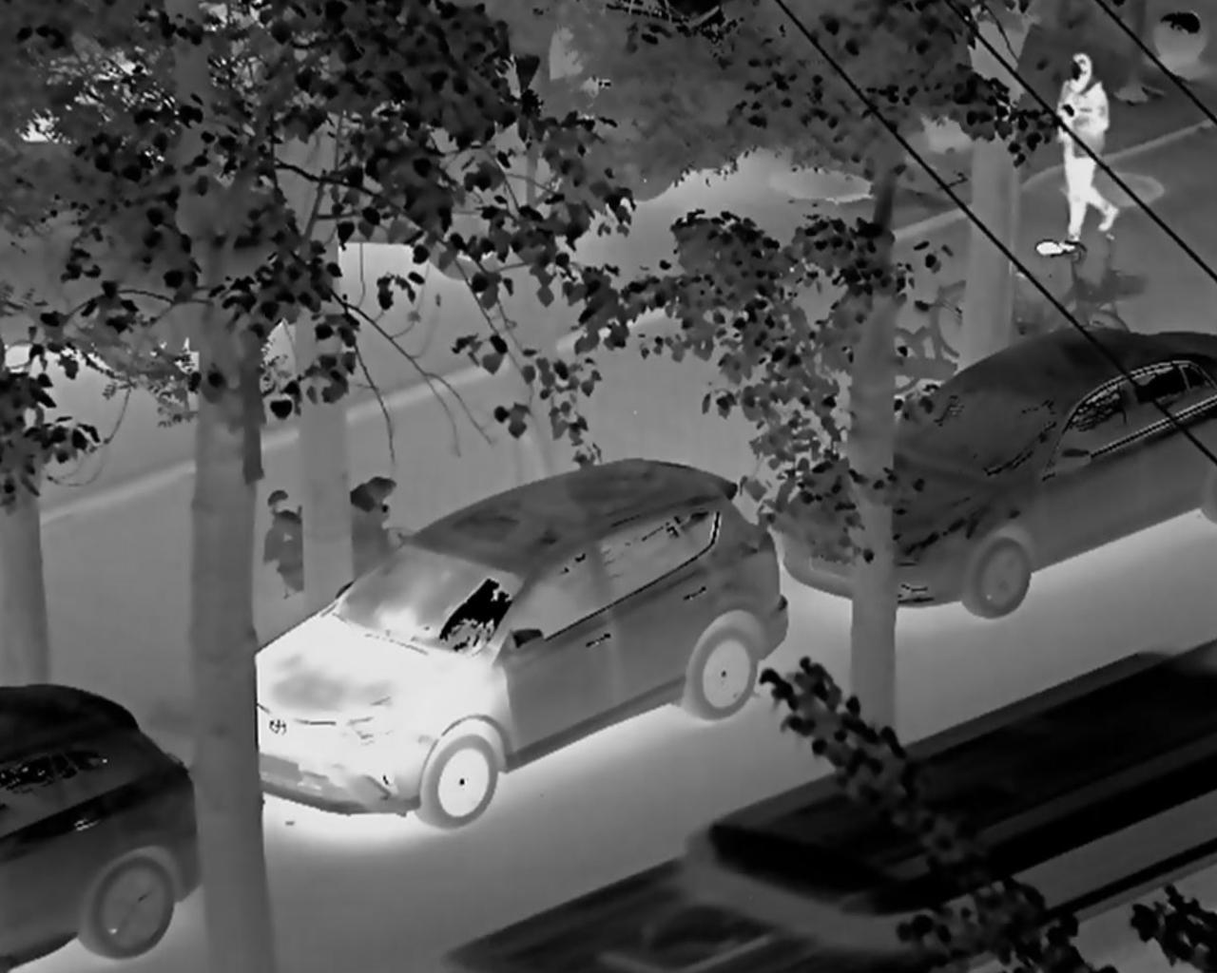person: (1047, 51, 1123, 254)
